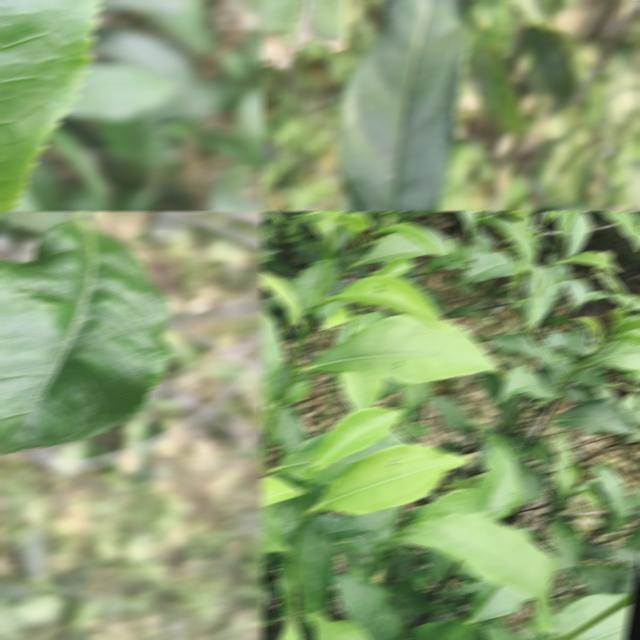Leaf: (0, 220, 171, 453), (337, 0, 469, 211), (0, 0, 99, 211), (415, 512, 557, 632), (304, 314, 500, 383), (310, 443, 468, 514), (300, 406, 401, 478), (331, 274, 450, 330), (66, 61, 175, 121), (260, 0, 349, 68), (466, 45, 524, 135), (331, 574, 402, 640), (520, 25, 575, 103), (344, 506, 402, 576), (293, 517, 335, 613), (354, 226, 453, 264), (474, 443, 522, 520), (482, 216, 537, 273), (553, 398, 634, 433), (547, 516, 585, 590), (589, 464, 630, 532), (496, 364, 558, 403), (260, 270, 303, 326), (260, 308, 284, 408), (233, 86, 264, 157), (425, 395, 475, 439), (337, 370, 386, 411), (490, 333, 552, 365), (387, 577, 439, 615), (270, 406, 308, 456), (401, 618, 487, 640), (458, 251, 515, 284), (302, 613, 370, 640), (288, 260, 324, 311), (570, 563, 629, 593), (380, 222, 438, 252), (586, 339, 640, 370), (552, 435, 579, 497), (598, 211, 640, 250), (398, 380, 433, 420), (506, 0, 552, 28), (563, 211, 591, 257), (260, 477, 301, 507), (276, 558, 296, 617), (563, 251, 619, 272), (561, 276, 590, 312), (523, 284, 544, 328), (396, 417, 428, 440), (479, 626, 531, 640), (283, 380, 311, 404), (483, 211, 526, 224), (457, 211, 477, 232), (323, 258, 337, 287), (627, 480, 640, 509), (553, 211, 570, 232), (619, 331, 640, 345), (260, 418, 269, 432), (627, 327, 640, 335)
